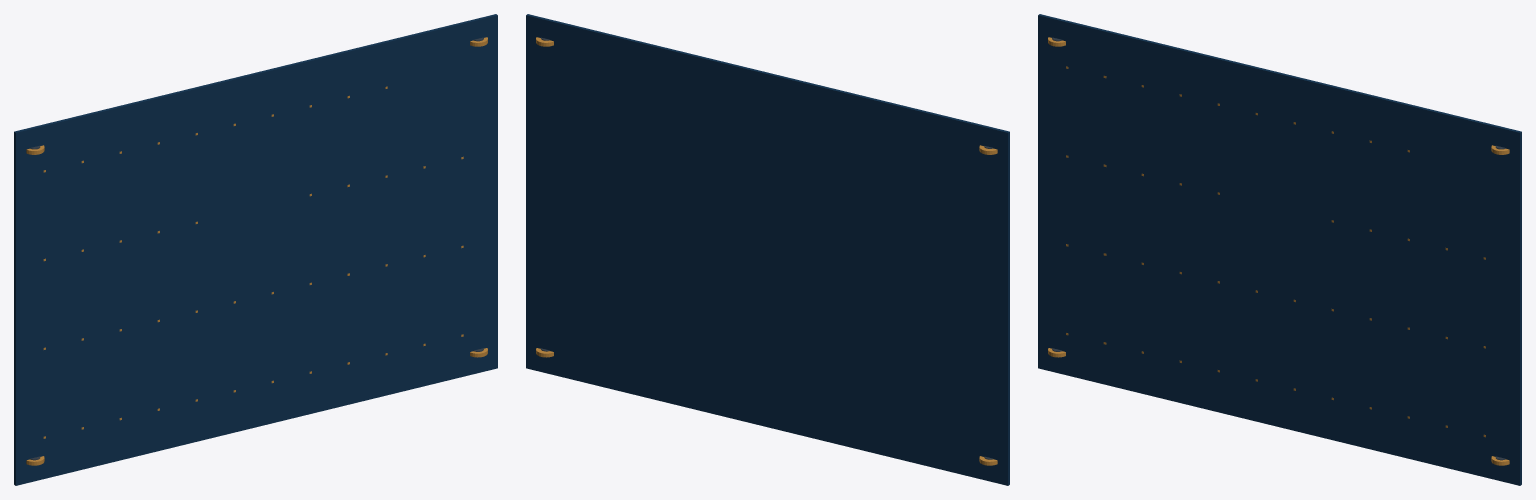
Rendered from 083_L102_PCB_Base.fbx.
3 renders of one model, left to right at view 1: azimuth 30°, elevation 25°; view 2: azimuth 150°, elevation 25°; view 3: azimuth 330°, elevation 25°, orthographic.
Parts seen in each view (by area): view 1: PCB_Base; view 2: PCB_Base; view 3: PCB_Base.
Part boxes in pixels (x1,y1,x2,y2): PCB_Base: [14, 14, 497, 485]; PCB_Base: [526, 14, 1009, 485]; PCB_Base: [1038, 14, 1521, 485].
Bounding box in the file's own units: 0.25 × 0.175 × 0.0092.
